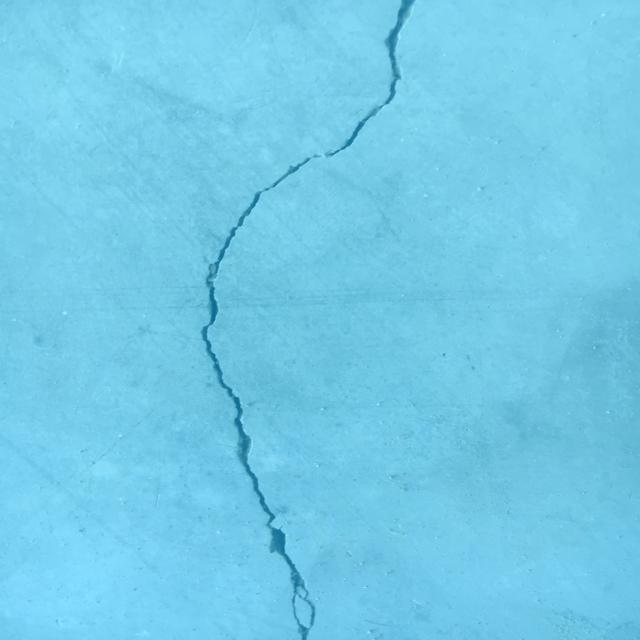crack: (200, 0, 416, 640)
